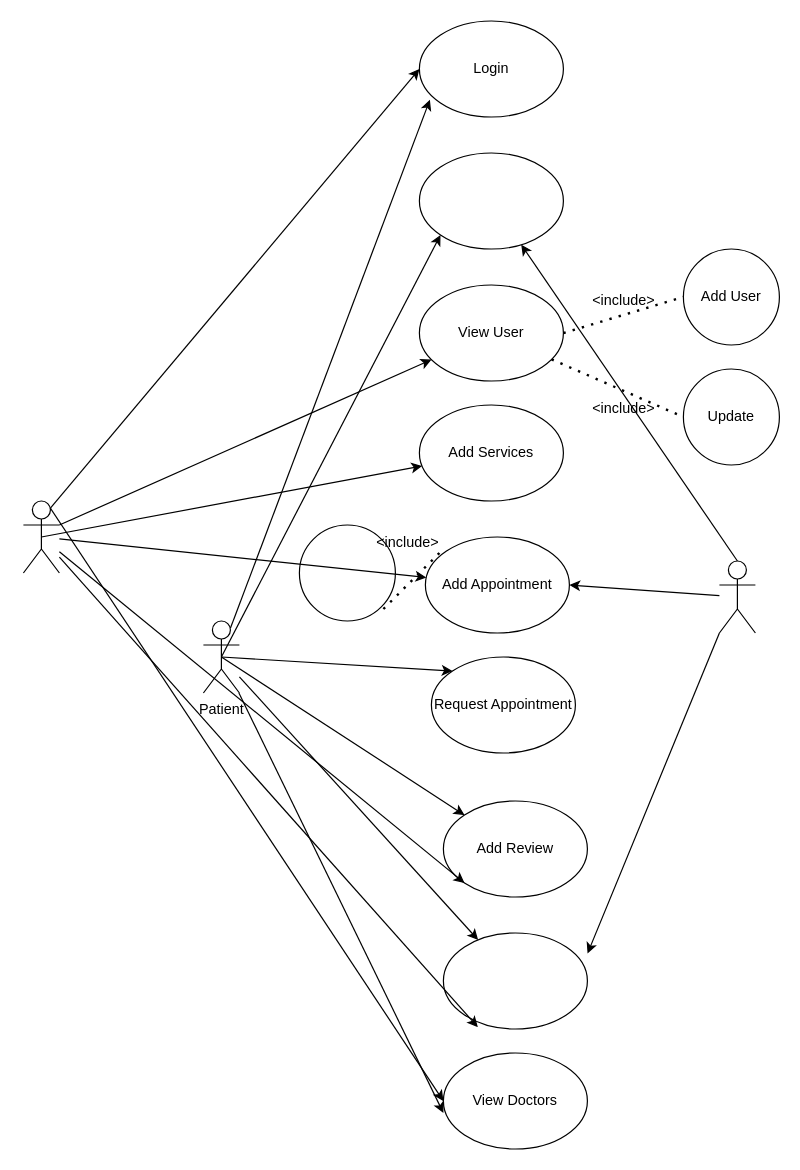
Some shapes in this 800 by 1170 pixel diagram are drawn without their labels. Here are the shapes that lost their labels. From the top down, the centre of each, then its label:
(490,200): Register
(40,536): Admin
(346,572): View Appointment
(736,596): Doctor
(514,980): View Services
